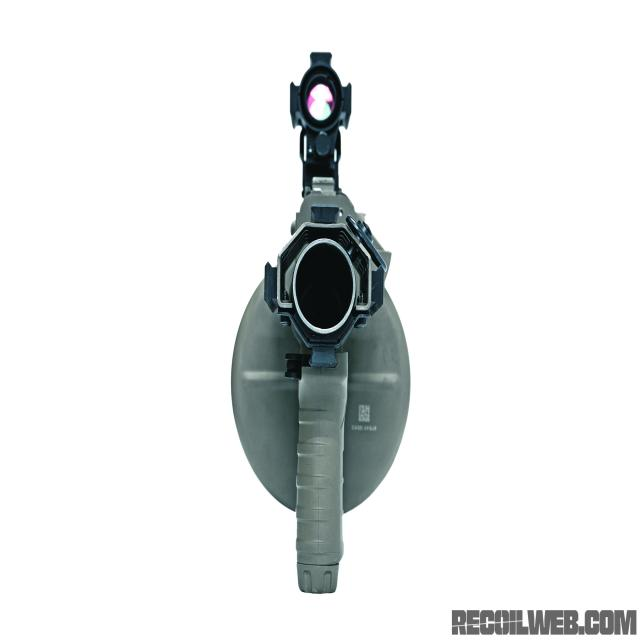bazooka: (177, 46, 449, 625)
